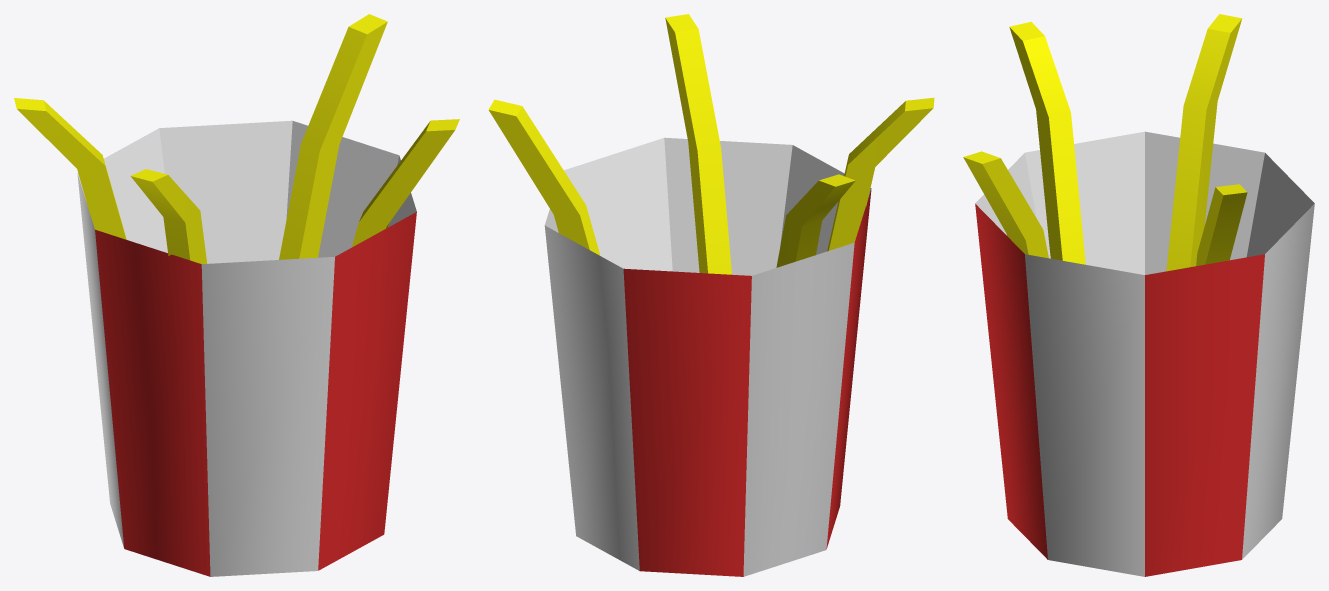
The model's file is Chips.fbx.
3 views of the same model, side by side, from view 1: azimuth 30°, elevation 25°; view 2: azimuth 150°, elevation 25°; view 3: azimuth 270°, elevation 25° (orthographic). The views are drawn at different scales.
Visible parts, largest first — view 1: Chips; view 2: Chips; view 3: Chips.
Boxes of the visible parts, bbox=[...] form: Chips: bbox=[14, 14, 459, 576]; Chips: bbox=[488, 14, 934, 576]; Chips: bbox=[963, 14, 1314, 576].
Size of the model in its own units: 12.82 by 14.12 by 10.83.
